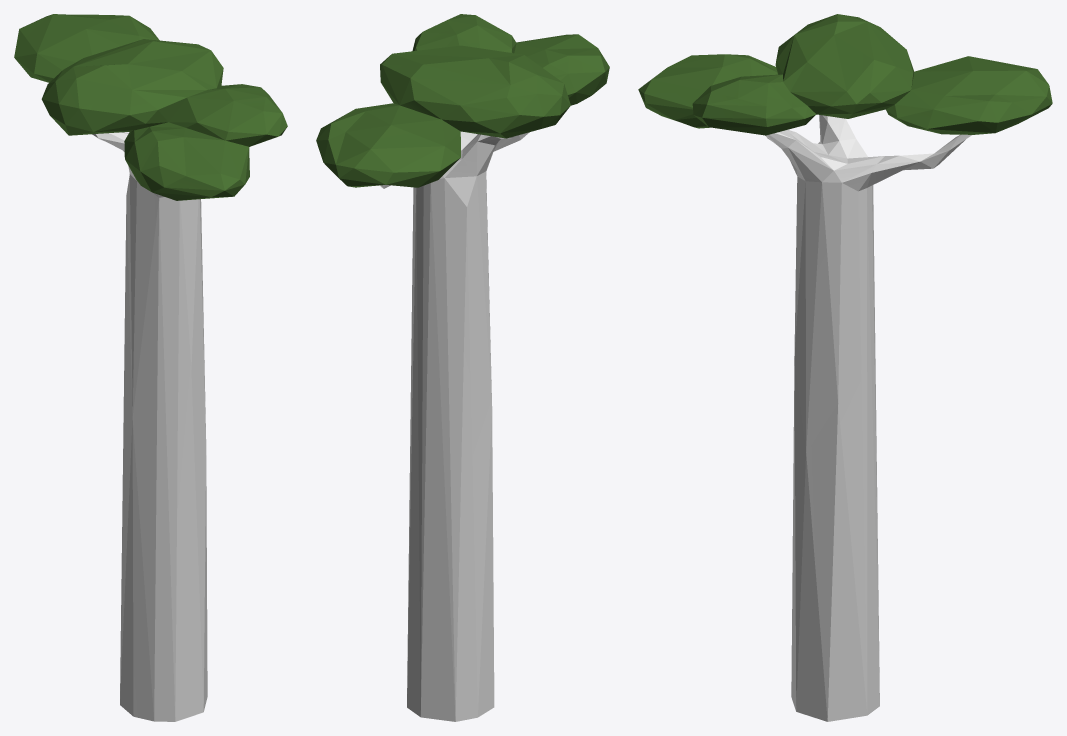
The model's file is BaobabLP_Seperate.fbx.
3 renders of one model, left to right at view 1: azimuth 30°, elevation 25°; view 2: azimuth 150°, elevation 25°; view 3: azimuth 270°, elevation 25°, orthographic.
Parts seen in each view (by area): view 1: BaobabTrunk, BaobabLeaves; view 2: BaobabTrunk, BaobabLeaves; view 3: BaobabTrunk, BaobabLeaves.
Boxes of the visible parts, x1,y1,x2,y2 form: BaobabTrunk: (92,132,207,721); BaobabLeaves: (14,14,287,200); BaobabTrunk: (380,131,529,721); BaobabLeaves: (316,14,609,187); BaobabTrunk: (765,115,971,721); BaobabLeaves: (638,14,1052,135).
Bounding box in the file's own units: 162 × 554 × 319.
